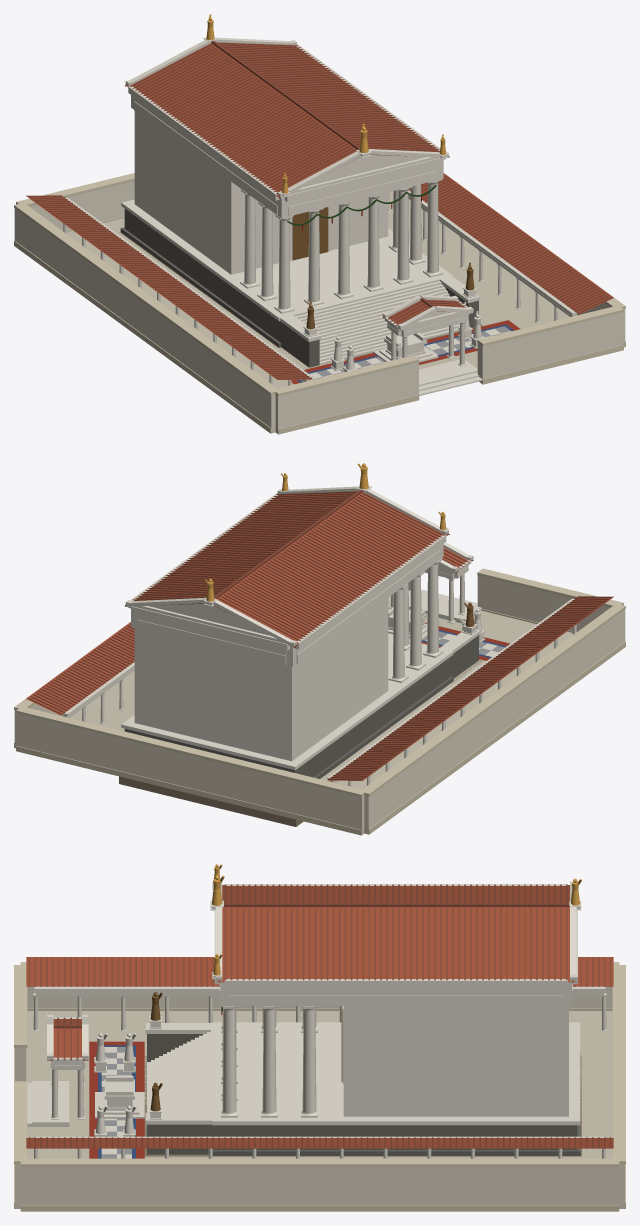
Rendered from rome_divus_augustus.glb.
The picture shows the model from 3 angles, top to bottom: view 1: azimuth 30°, elevation 25°; view 2: azimuth 150°, elevation 25°; view 3: azimuth 270°, elevation 25°; orthographic projection. The views are drawn at different scales.
Parts seen in each view (by area): view 1: rome_divus_augustus; view 2: rome_divus_augustus; view 3: rome_divus_augustus.
Boxes of the visible parts, x1,y1,x2,y2 form: rome_divus_augustus: (14,14,625,434); rome_divus_augustus: (14,463,625,835); rome_divus_augustus: (14,864,625,1211).
Size of the model in its own units: 50.2 by 30.85 by 64.2.
